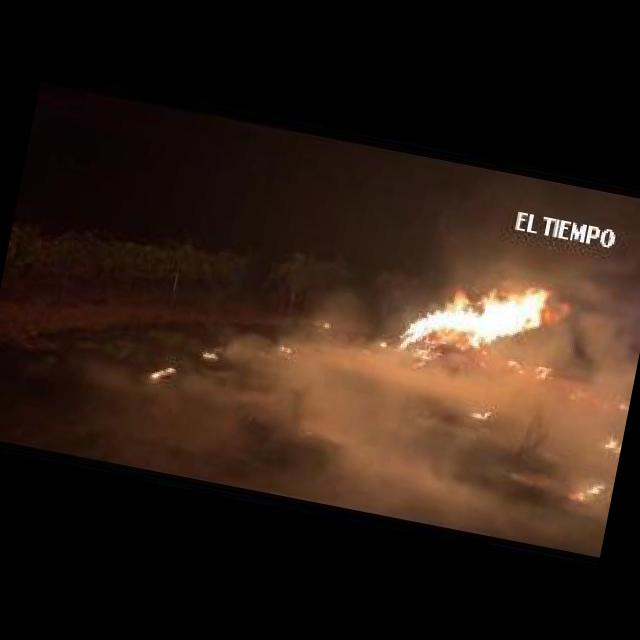Fire: (377, 238, 589, 398)
